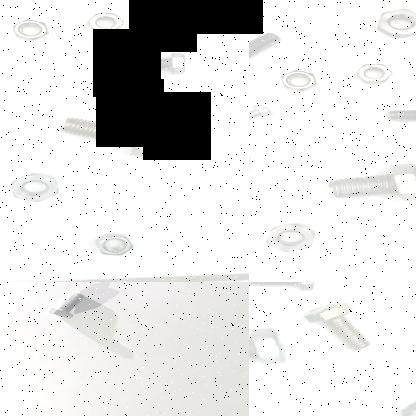Bolts: (55, 110, 178, 161), (302, 298, 382, 358), (323, 163, 416, 206), (113, 47, 197, 79), (249, 323, 297, 372), (42, 289, 94, 320), (249, 31, 290, 69), (249, 100, 281, 136), (249, 282, 331, 295), (379, 101, 416, 129)
NUTS: (261, 216, 325, 258), (6, 166, 66, 206), (371, 2, 416, 44), (86, 230, 140, 258), (7, 9, 52, 42), (346, 60, 398, 88), (278, 67, 326, 96), (82, 12, 130, 36), (197, 0, 249, 10), (392, 396, 416, 416)
